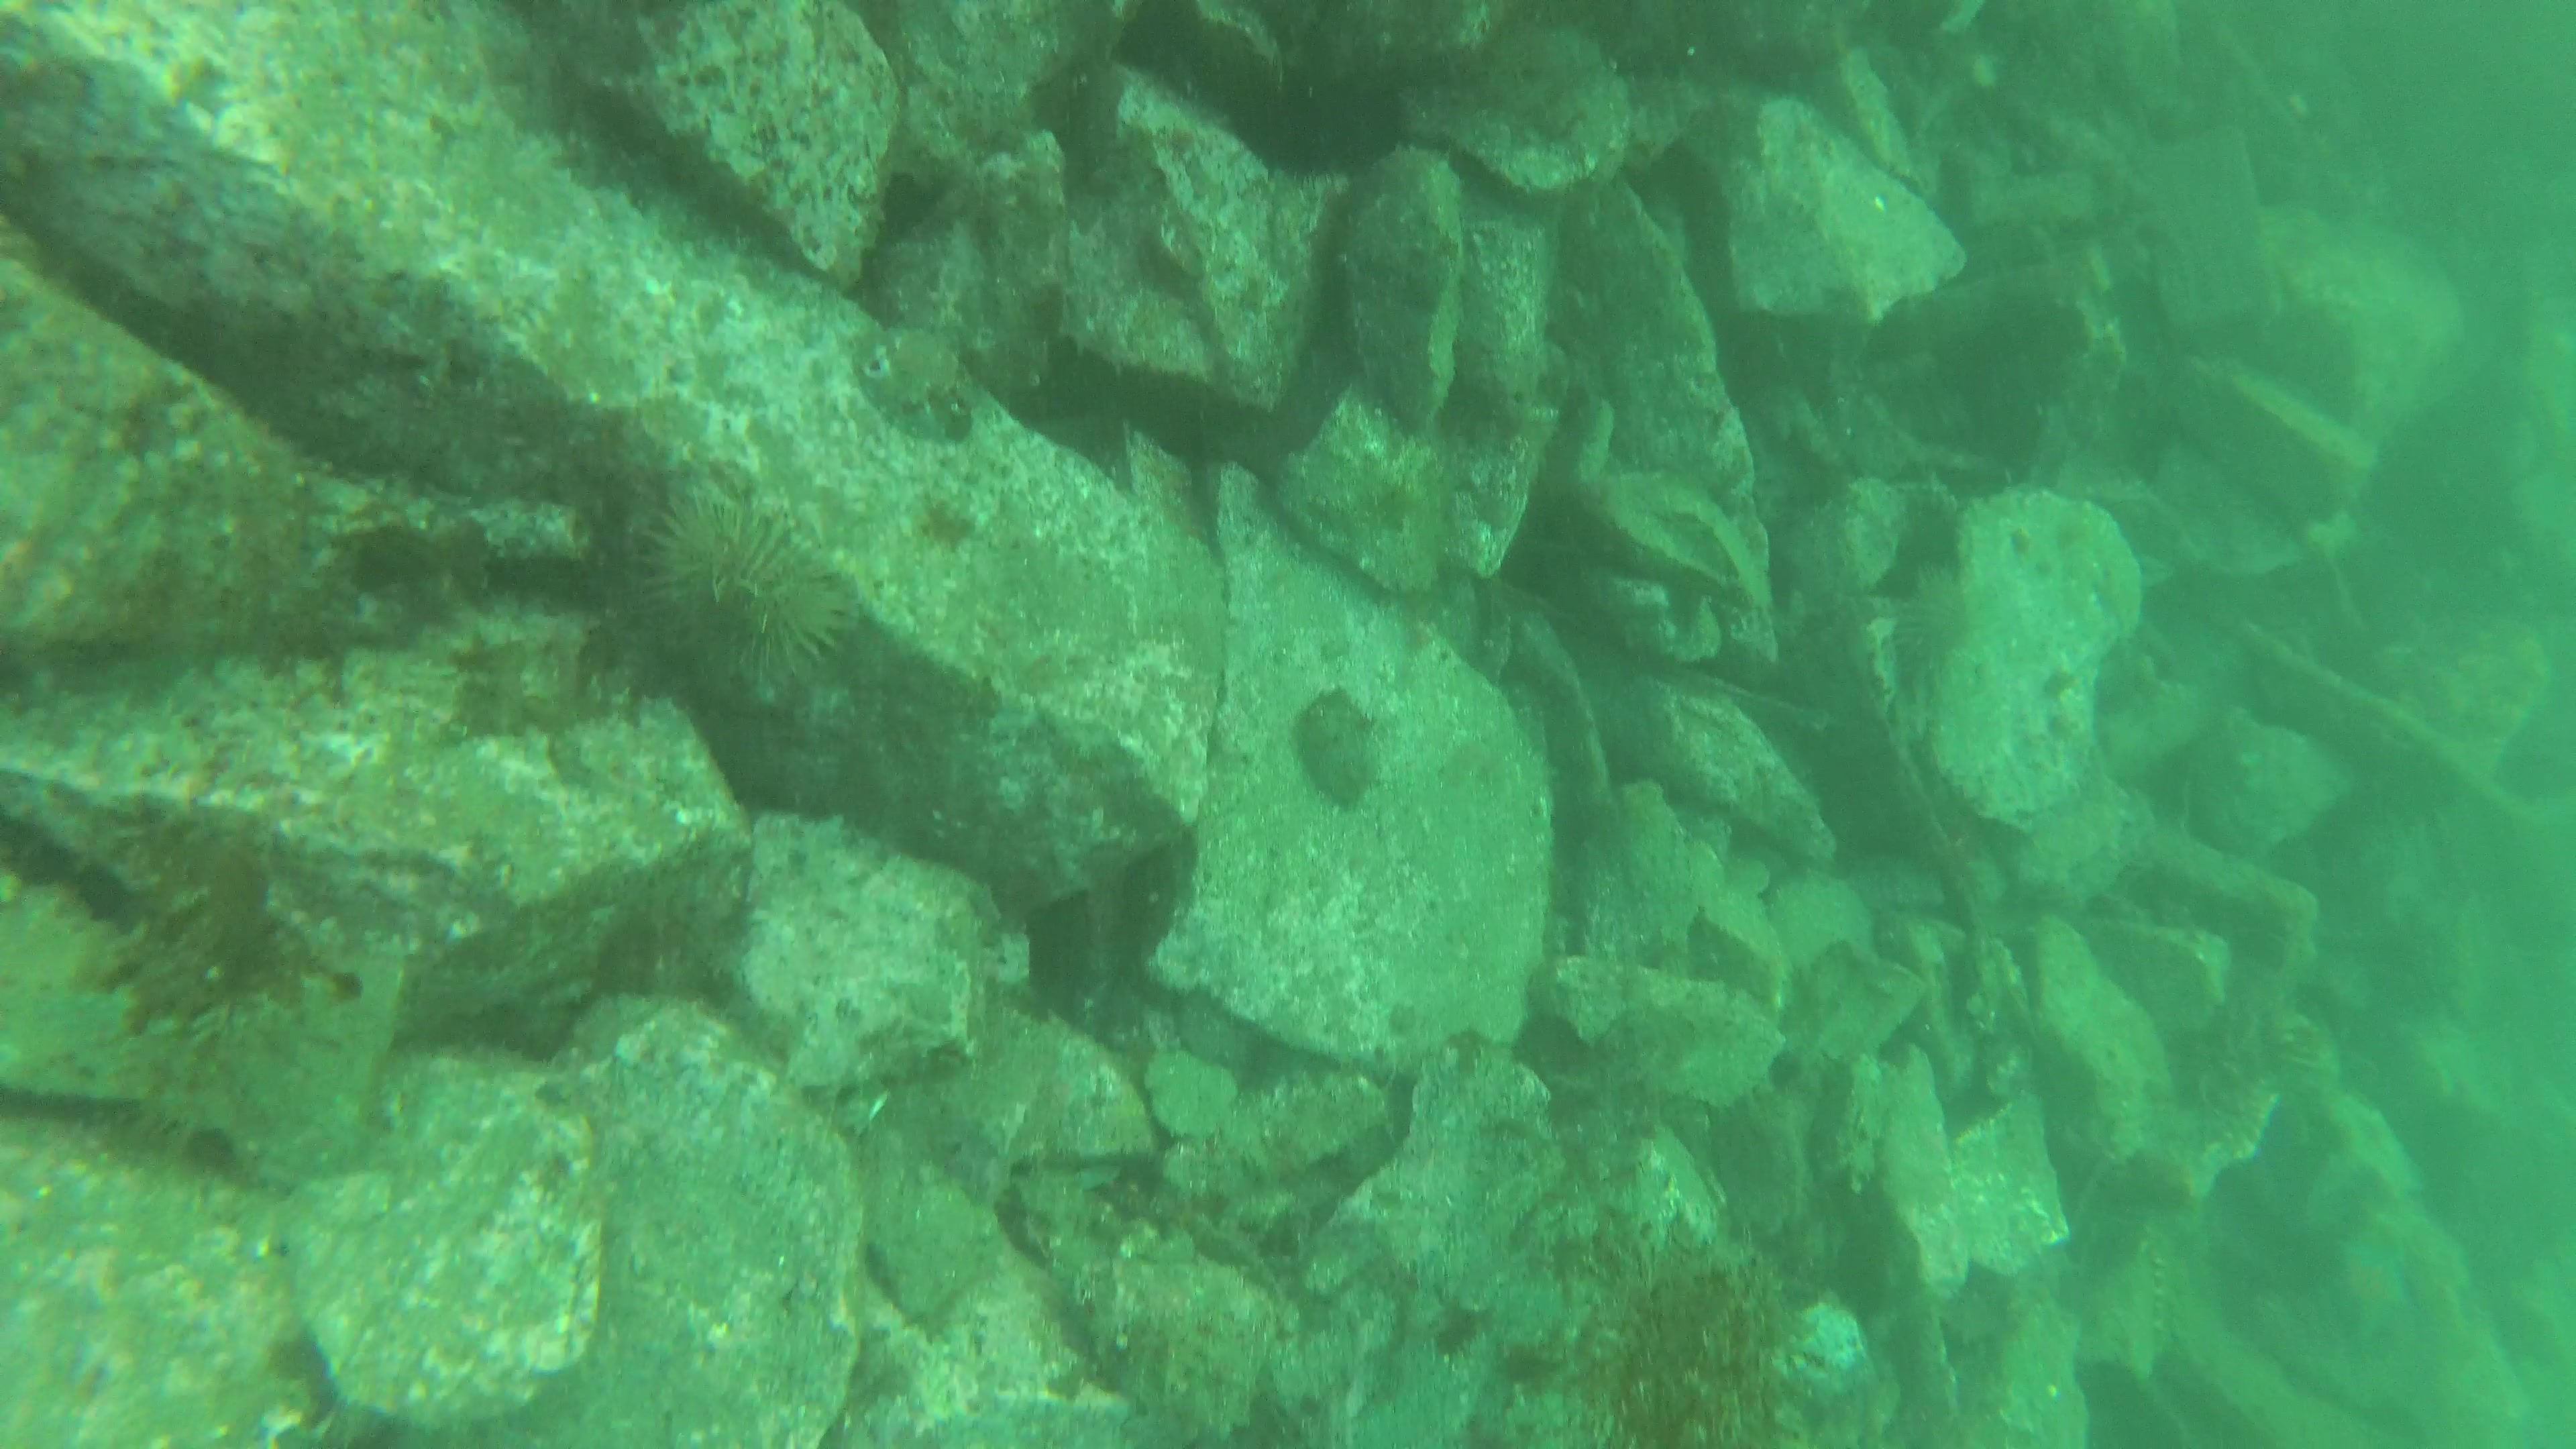echinus: (609, 479, 862, 701)
